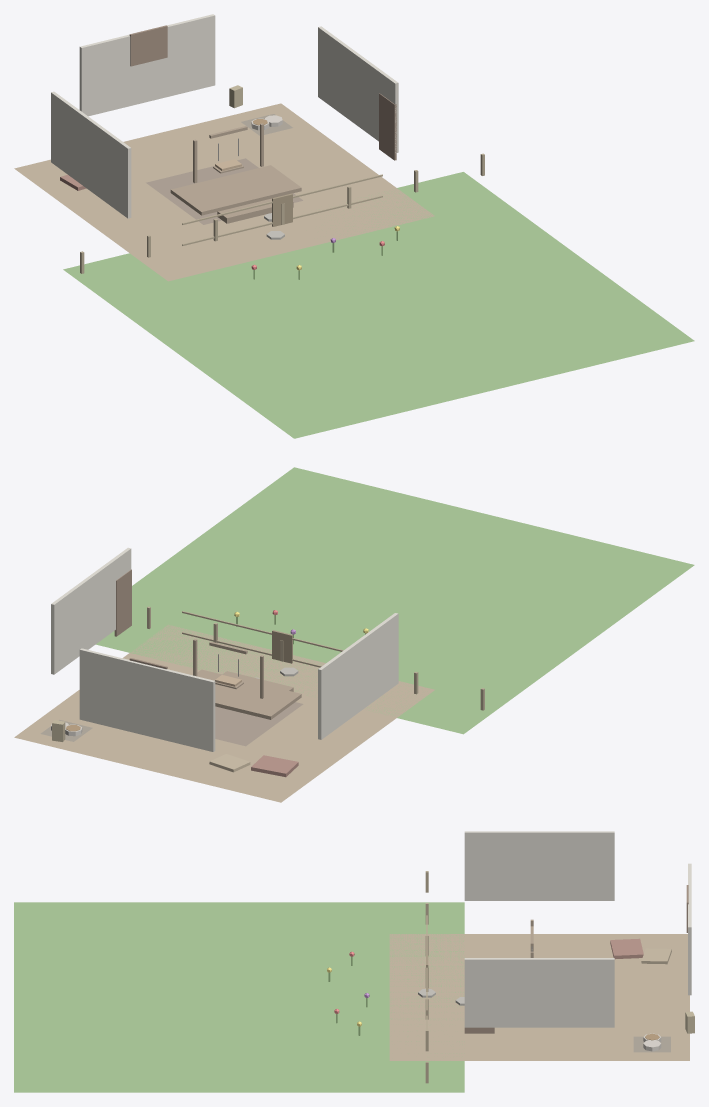
File: environment.glb
3 views of the same model, one above another, from view 1: azimuth 30°, elevation 25°; view 2: azimuth 150°, elevation 25°; view 3: azimuth 270°, elevation 25° (orthographic). The views are drawn at different scales.
Visible parts, largest first — view 1: GardenGrass, DenFloor, BackWall, LeftWall, RightWall, PorchFloor, Rug, WindowFrame, DoorFrame, PorchStep; view 2: GardenGrass, DenFloor, BackWall, LeftWall, RightWall, PorchFloor, Rug, DoorFrame, Blanket1, Gate; view 3: GardenGrass, DenFloor, LeftWall, RightWall, Blanket1, BackWall, Blanket2.
Boxes of the visible parts, <box> form: GardenGrass: <box>63,172,694,438</box>; DenFloor: <box>14,103,434,281</box>; BackWall: <box>79,14,215,116</box>; LeftWall: <box>51,91,131,218</box>; RightWall: <box>318,26,398,152</box>; PorchFloor: <box>170,165,301,215</box>; Rug: <box>146,158,302,224</box>; WindowFrame: <box>129,25,167,66</box>; DoorFrame: <box>379,93,396,160</box>; PorchStep: <box>217,198,293,223</box>; GardenGrass: <box>96,467,694,734</box>; DenFloor: <box>14,624,434,802</box>; BackWall: <box>79,648,215,751</box>; LeftWall: <box>318,613,398,739</box>; RightWall: <box>51,547,131,674</box>; PorchFloor: <box>197,669,301,719</box>; Rug: <box>215,702,303,746</box>; DoorFrame: <box>114,569,131,636</box>; Blanket1: <box>251,755,298,777</box>; Gate: <box>272,630,292,663</box>; GardenGrass: <box>14,902,464,1092</box>; DenFloor: <box>389,934,689,1060</box>; LeftWall: <box>464,831,614,900</box>; RightWall: <box>464,958,614,1027</box>; Blanket1: <box>610,938,643,959</box>; BackWall: <box>688,863,691,995</box>; Blanket2: <box>641,948,671,964</box>.
Bounding box in the file's own units: 6.04 × 1.52 × 9.07.
